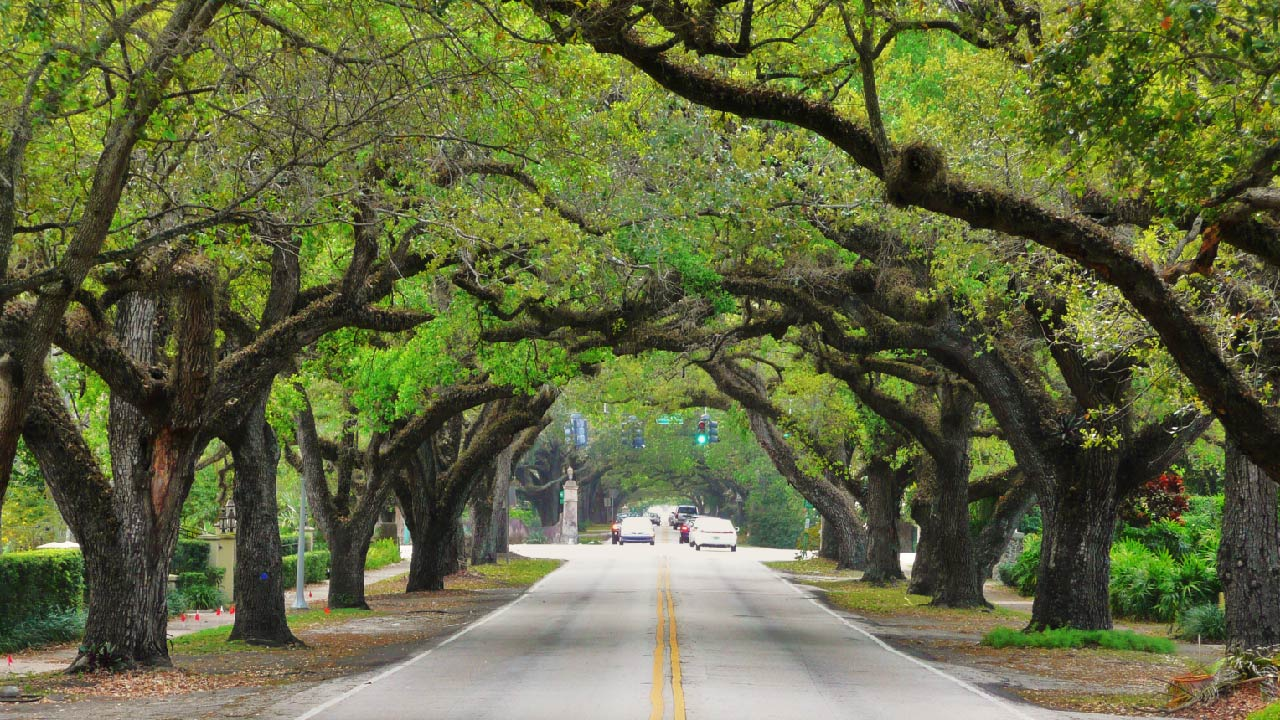tree: (42, 412, 183, 670), (1028, 437, 1115, 630), (232, 436, 292, 642), (308, 460, 384, 610), (928, 434, 995, 604), (1227, 459, 1280, 647), (395, 460, 458, 595)
tree branches: (888, 128, 1267, 282), (586, 2, 855, 152), (226, 88, 492, 216), (175, 258, 467, 353), (14, 80, 139, 224)
